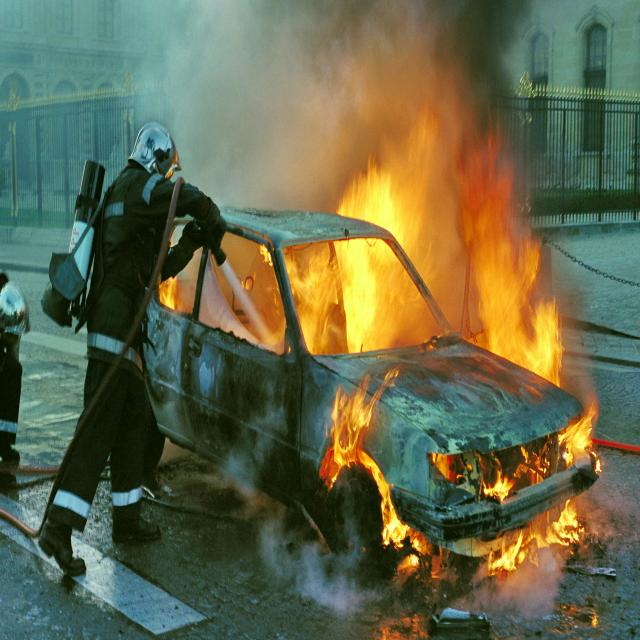fire: (314, 134, 560, 392), (432, 404, 600, 496), (260, 240, 399, 348), (317, 370, 392, 484), (489, 499, 596, 574), (382, 492, 451, 582), (160, 269, 181, 318)
